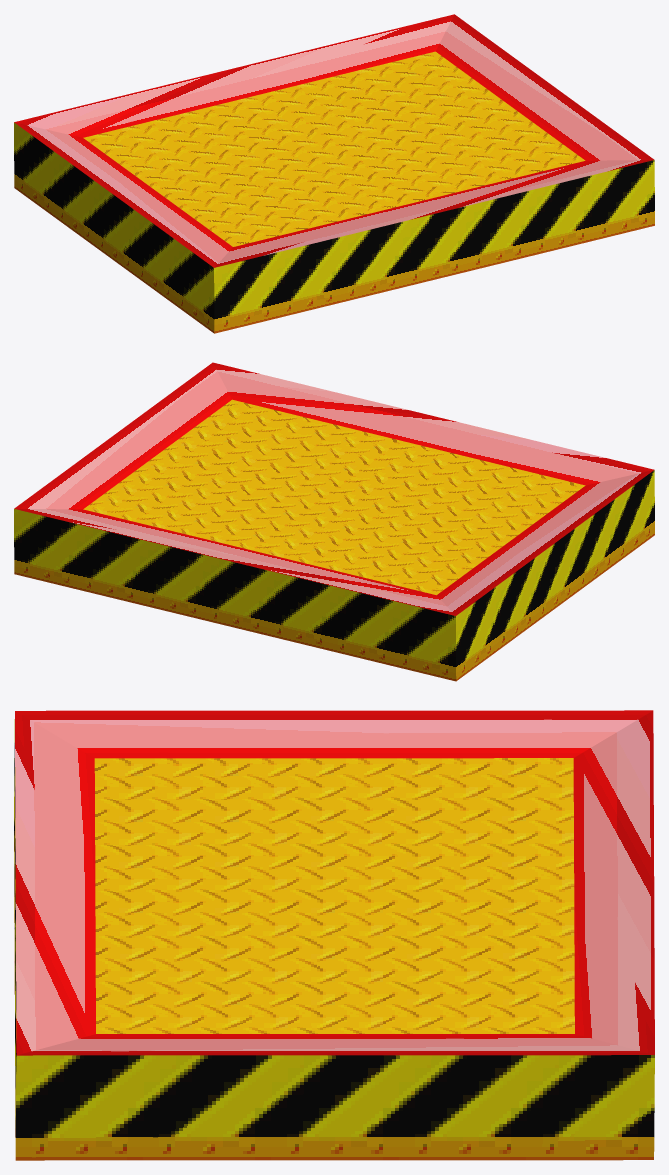
Rendered from ElevatorPlatform.obj.
3 views of the same model, one above another, from view 1: azimuth 30°, elevation 25°; view 2: azimuth 150°, elevation 25°; view 3: azimuth 270°, elevation 25° (orthographic). The views are drawn at different scales.
Visible parts, largest first — view 1: ElevatorPlatform; view 2: ElevatorPlatform; view 3: ElevatorPlatform.
Boxes of the visible parts, <box> form: ElevatorPlatform: <box>14,14,654,333</box>; ElevatorPlatform: <box>14,362,654,681</box>; ElevatorPlatform: <box>14,710,654,1160</box>.
Size of the model in its own units: 64.37 by 9.15 by 50.51.
3 materials, 3 textured.
